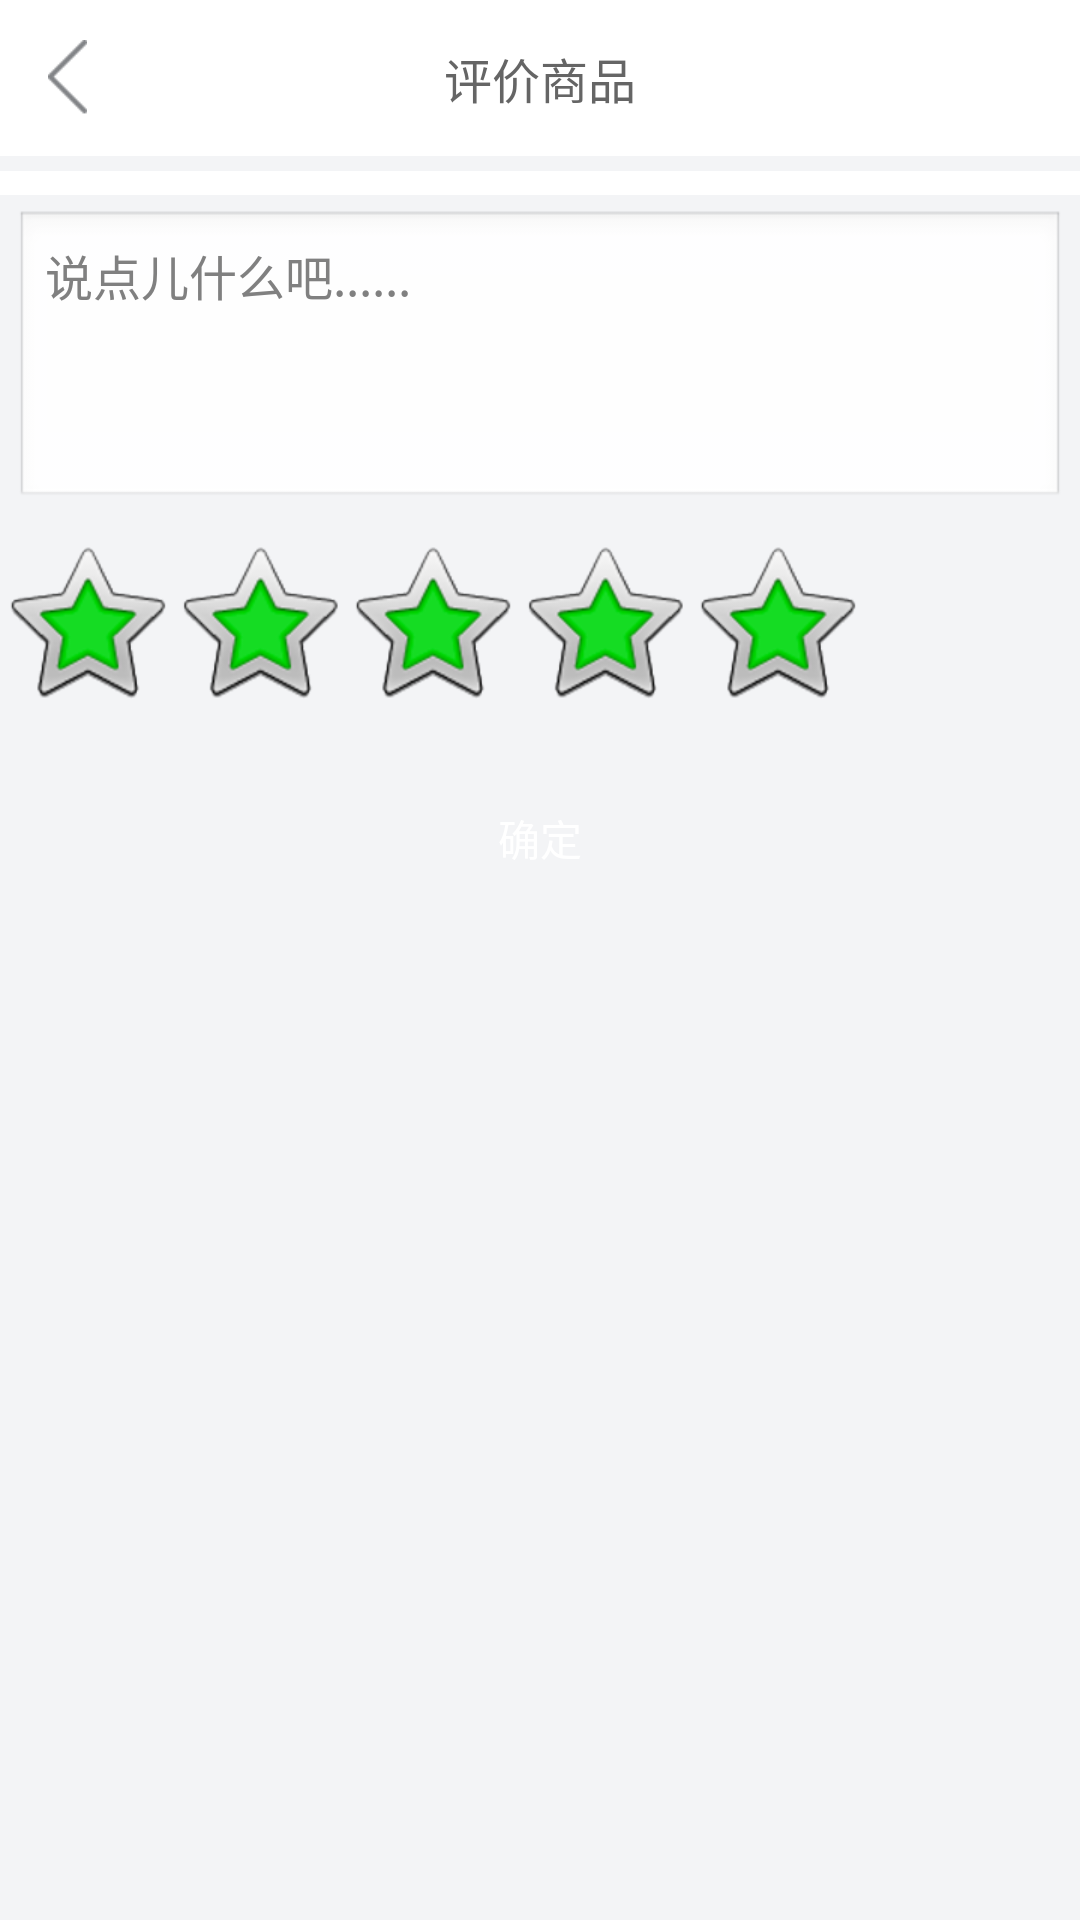

Named icons in this screenshot (1080*1920) and their centers, point (x, y):
back: point (67, 77)
